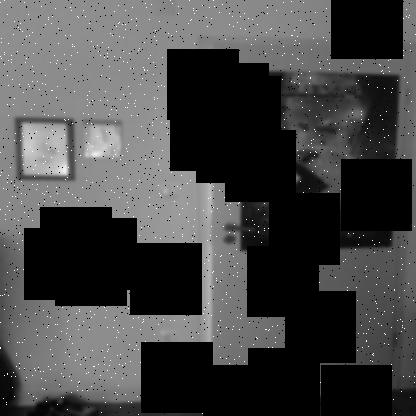Porte: (196, 33, 415, 407)
